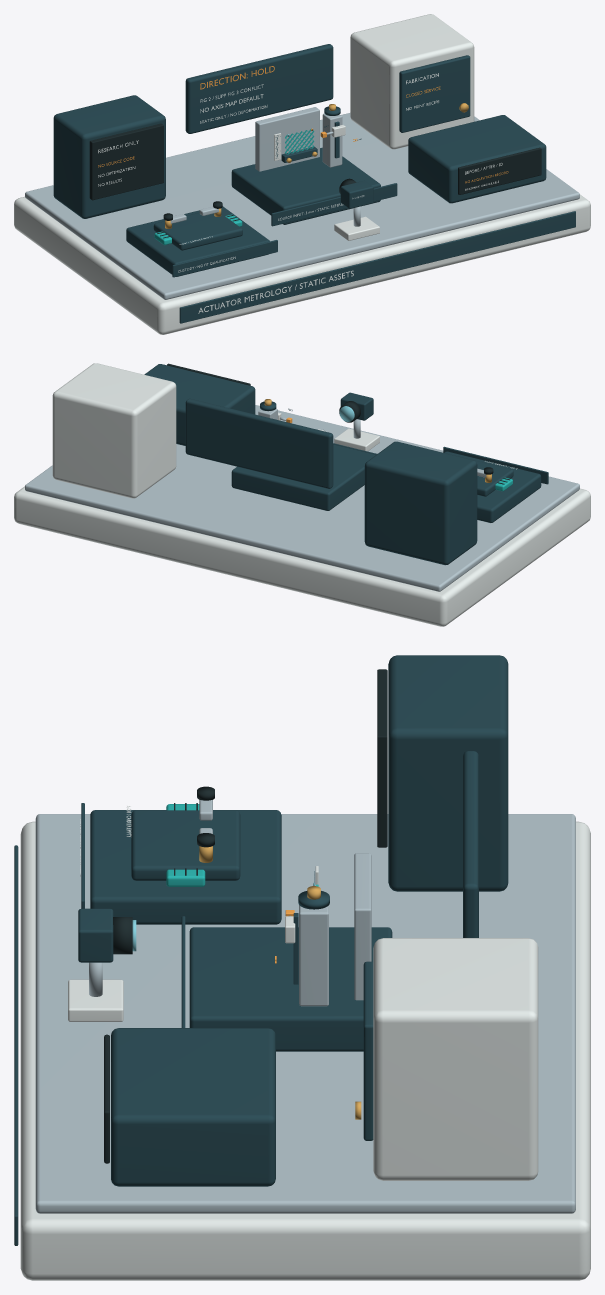
The model's file is actuator_metrology_lab.glb.
3 views of the same model, one above another, from view 1: azimuth 30°, elevation 25°; view 2: azimuth 150°, elevation 25°; view 3: azimuth 270°, elevation 25° (orthographic). The views are drawn at different scales.
Visible parts, largest first — view 1: bench.top, bench.base, fabrication.closed_service, hold.panel, compute.body, bench.title.plate, records.console, metrology_base, compute.screen, fabrication.sealed_door, carrier.dock, fixture.backbone (+8 smaller); view 2: bench.top, bench.base, fabrication.closed_service, compute.body, hold.panel, metrology_base, records.console, carrier.dock, reuse.carrier.loaded.base, camera.foot, carrier.label.plate, camera_metrology; view 3: bench.top, bench.base, fabrication.closed_service, compute.body, records.console, metrology_base, carrier.dock, reuse.carrier.loaded.base, hold.panel, input_displacement_stage, fixture.backbone, camera.foot (+4 smaller).
Boxes of the visible parts, x1,y1,x2,y2 form: bench.top: [25, 113, 579, 299]; bench.base: [14, 194, 590, 334]; fabrication.closed_service: [350, 14, 474, 149]; hold.panel: [185, 44, 333, 133]; compute.body: [53, 95, 165, 218]; bench.title.plate: [179, 211, 575, 323]; records.console: [408, 115, 546, 203]; metrology_base: [231, 147, 380, 224]; compute.screen: [89, 123, 163, 200]; fabrication.sealed_door: [399, 55, 470, 132]; carrier.dock: [126, 206, 269, 276]; fixture.backbone: [255, 107, 319, 171]; bench.top: [25, 405, 579, 591]; bench.base: [14, 486, 590, 626]; fabrication.closed_service: [52, 363, 176, 498]; compute.body: [364, 441, 477, 565]; hold.panel: [185, 398, 333, 488]; metrology_base: [231, 444, 375, 510]; records.console: [144, 364, 255, 445]; carrier.dock: [444, 451, 541, 522]; reuse.carrier.loaded.base: [474, 460, 513, 496]; camera.foot: [334, 428, 379, 451]; carrier.label.plate: [443, 446, 548, 484]; camera_metrology: [340, 392, 373, 420]; bench.top: [35, 814, 575, 1213]; bench.base: [20, 821, 590, 1280]; fabrication.closed_service: [373, 938, 538, 1180]; compute.body: [388, 655, 508, 891]; records.console: [111, 1028, 275, 1186]; metrology_base: [189, 927, 392, 1051]; carrier.dock: [90, 810, 281, 924]; reuse.carrier.loaded.base: [131, 810, 240, 880]; hold.panel: [463, 751, 478, 937]; input_displacement_stage: [299, 905, 328, 1006]; fixture.backbone: [354, 853, 371, 1000]; camera.foot: [68, 979, 123, 1021].
Bounding box in the file's own units: 1.28 × 0.389 × 0.7691.
